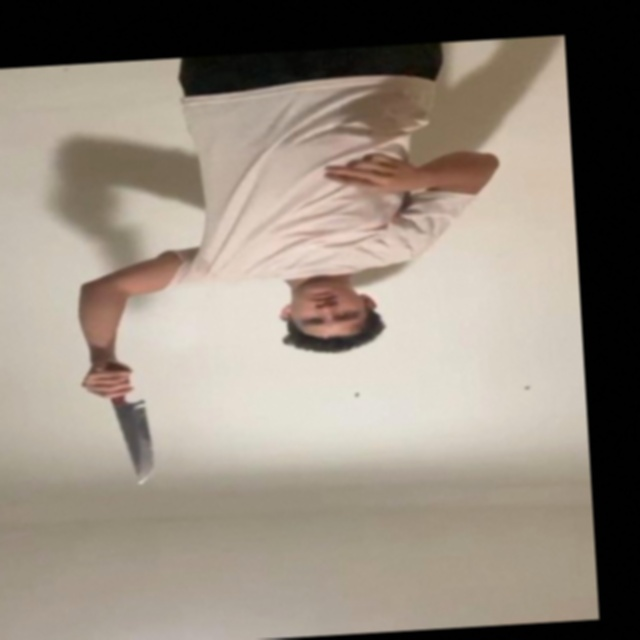Sharp-Object: (119, 402, 161, 488)
